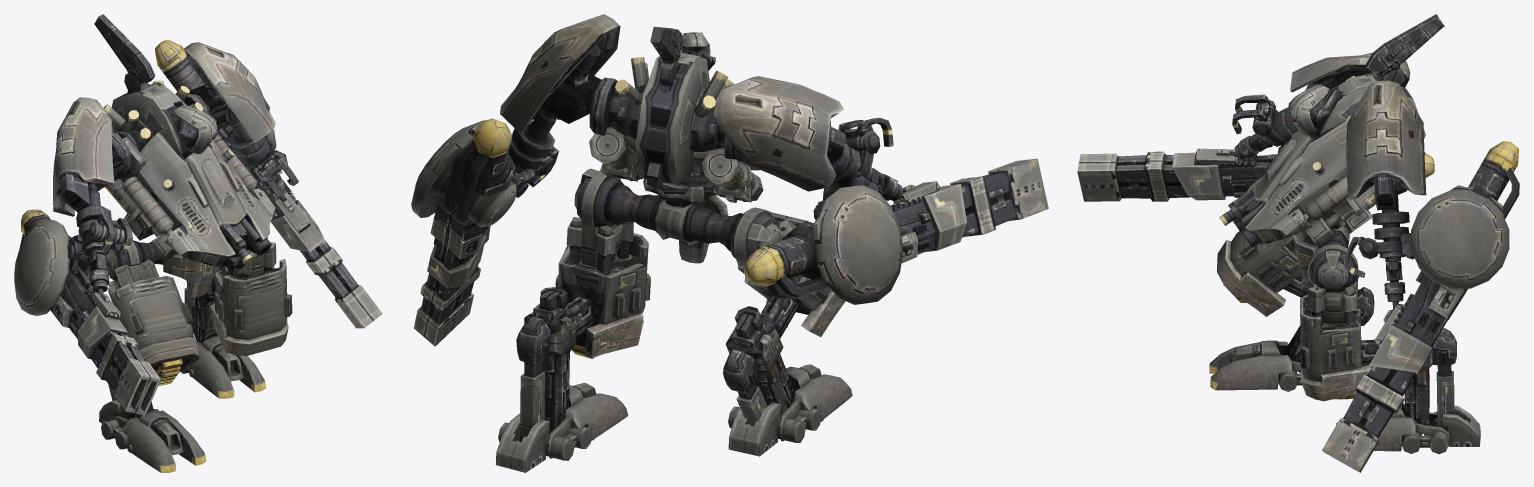
File: robot.obj
3 renders of one model, left to right at view 1: azimuth 30°, elevation 25°; view 2: azimuth 150°, elevation 25°; view 3: azimuth 270°, elevation 25°, orthographic. The views are drawn at different scales.
Parts seen in each view (by area): view 1: LP_Body; view 2: LP_Body; view 3: LP_Body.
Part boxes in pixels (box(x1,y1,x2,y2)): LP_Body: box(14, 14, 382, 472); LP_Body: box(411, 14, 1048, 472); LP_Body: box(1077, 14, 1519, 472).
Bounding box in the file's own units: 17.38 × 16.22 × 16.96.
Materials: 1 (1 with a texture image).
